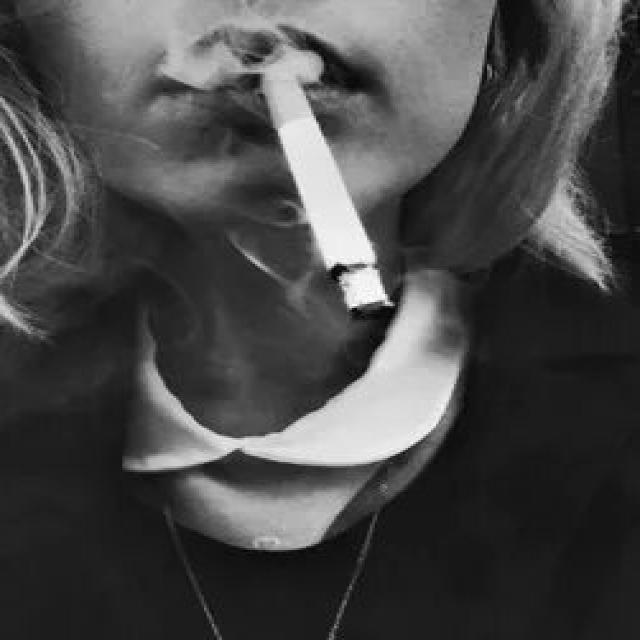smoke: (248, 54, 410, 334)
